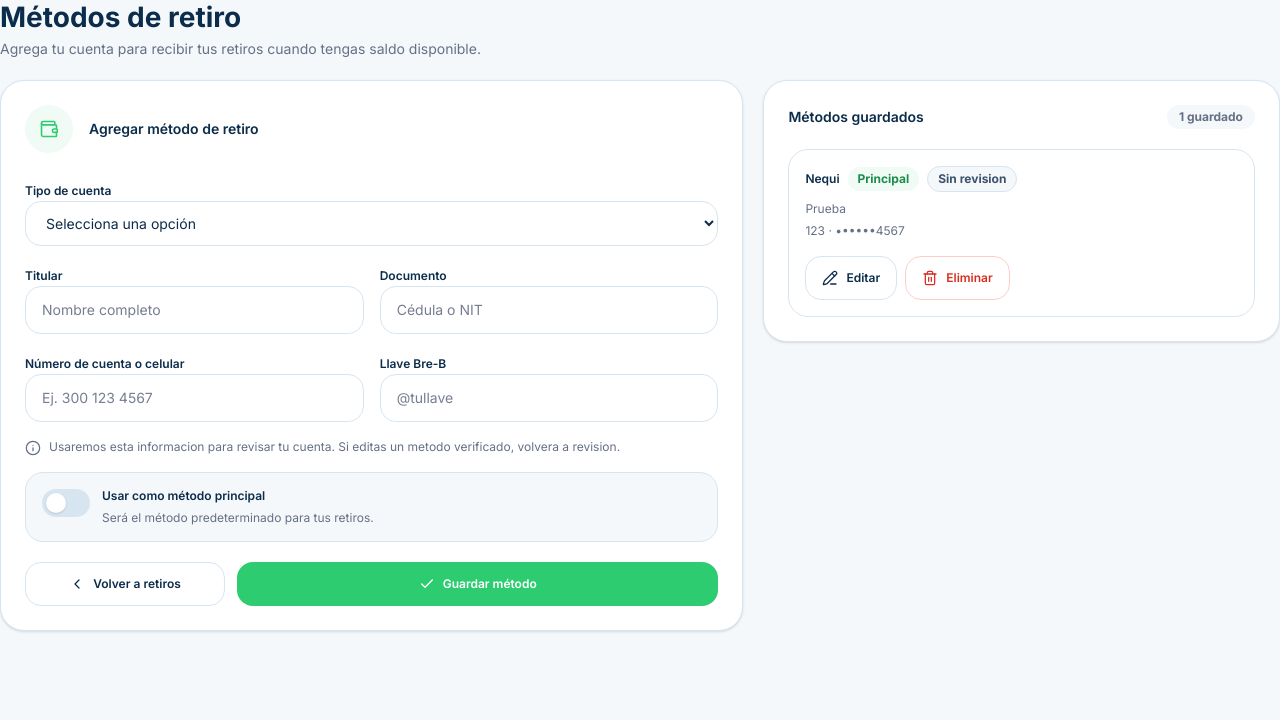
Test case: PayoutAccountsManager › opens deletion with Cancelar focused, cycles within the confirmation and restores its opener
The image size is (1280, 720).
Step 1. Click the button "Eliminar" → x=957, y=278, box x1=905 y1=256 x2=1010 y2=300
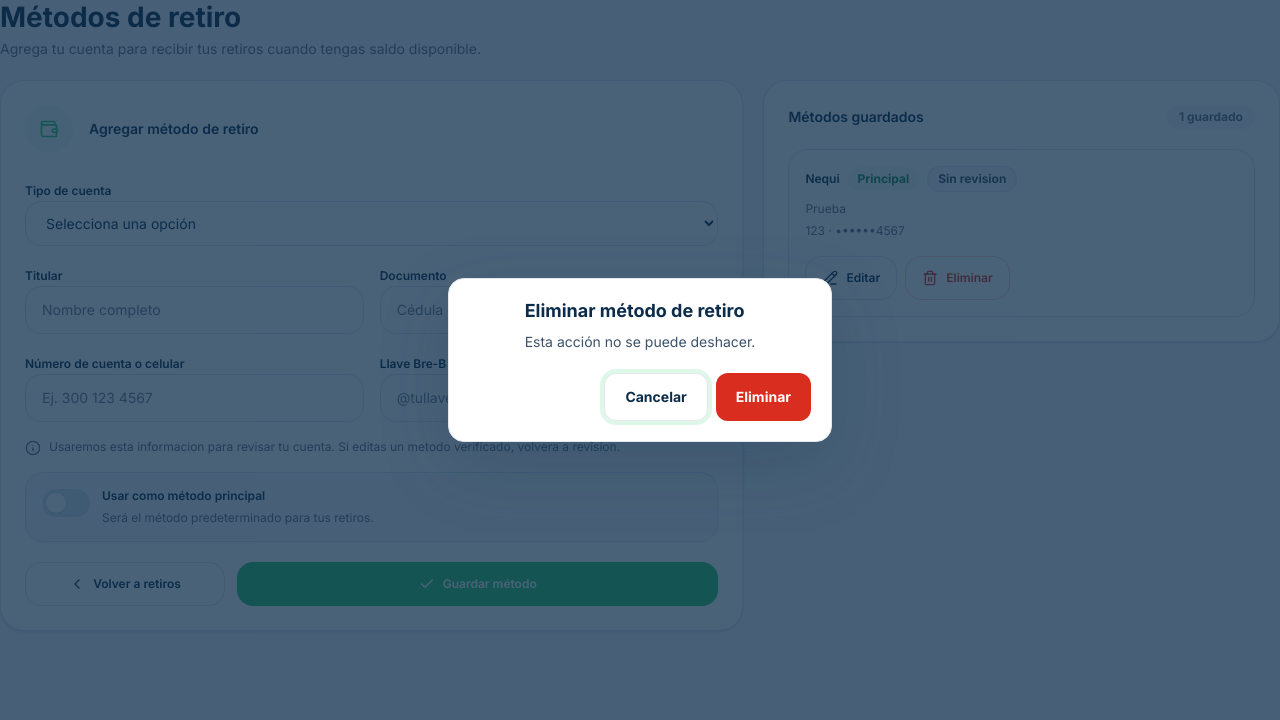
Step 2. Press Shift+Tab
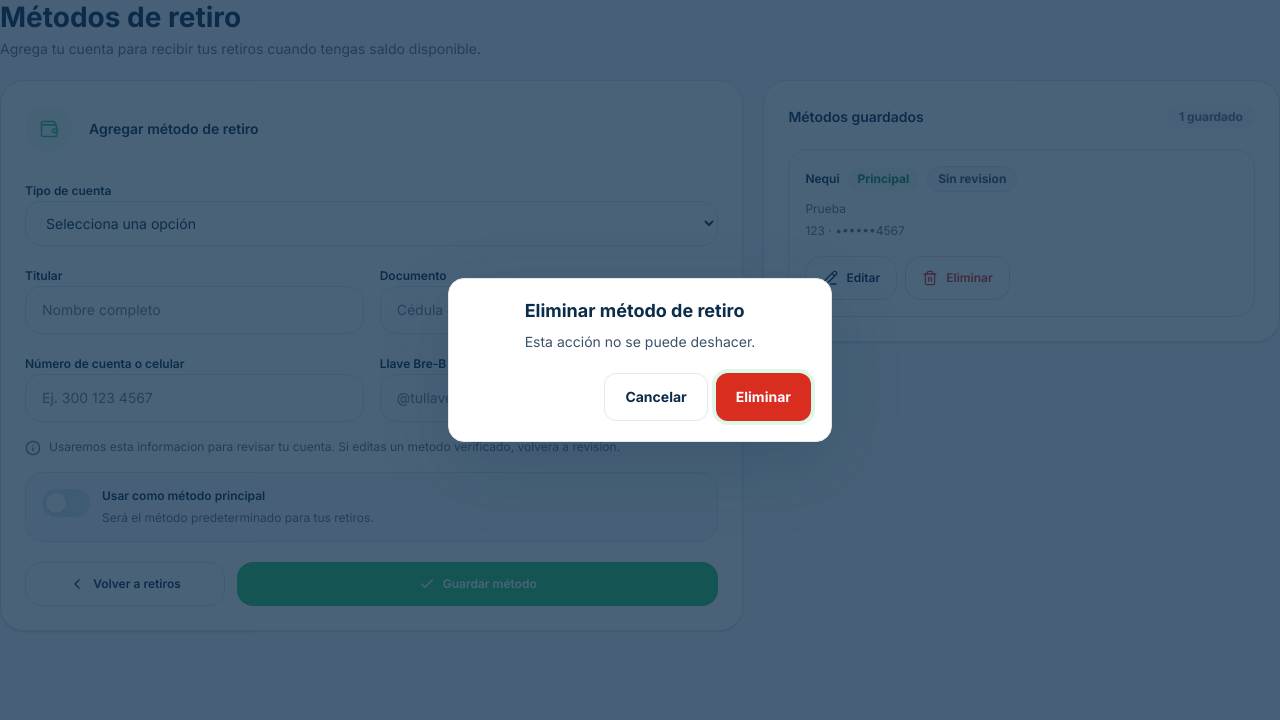
Step 3. Press Escape
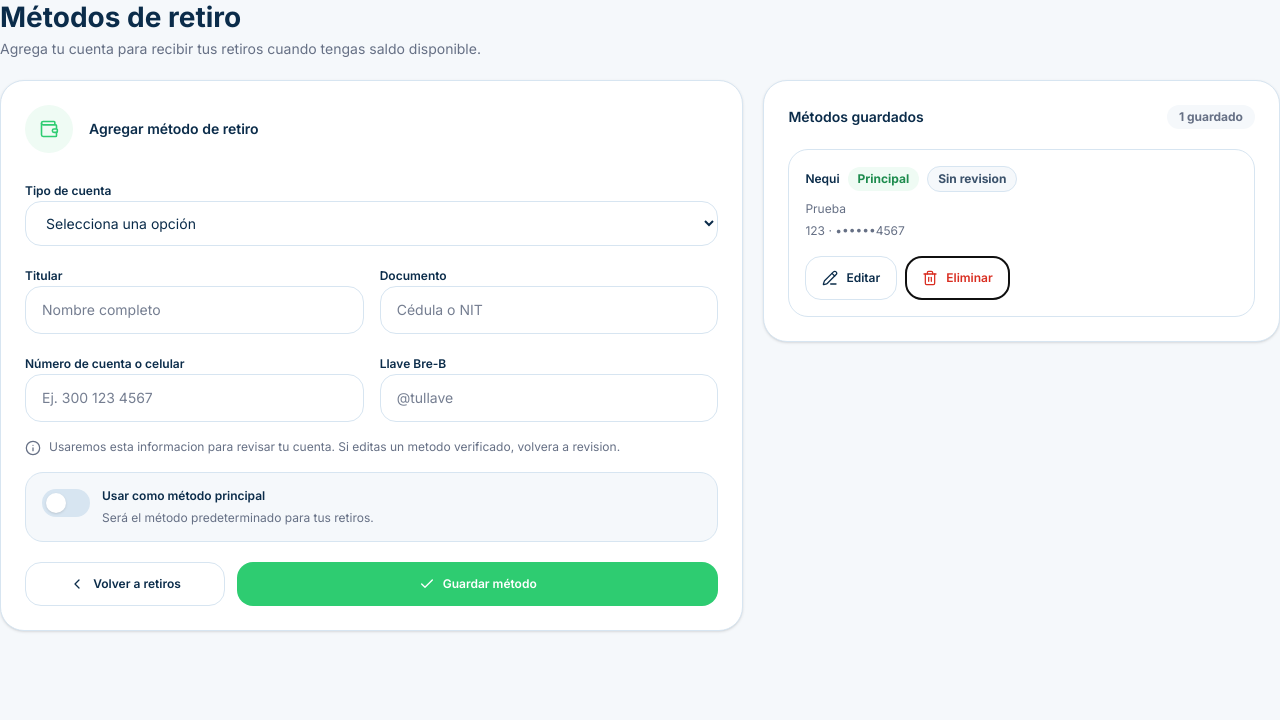
Now the dialog is gone
